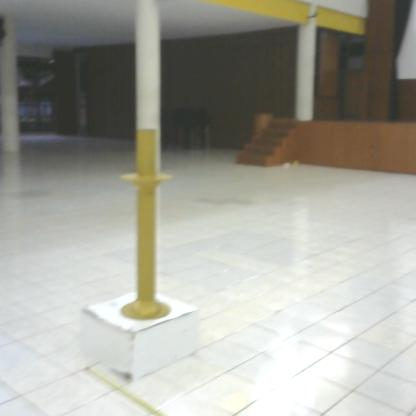pole: (116, 124, 180, 324)
